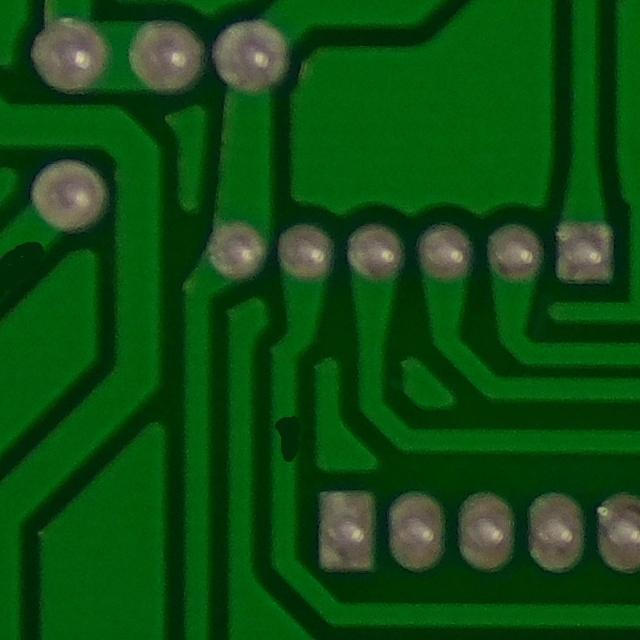mouse_bite: (0, 222, 58, 317), (259, 410, 316, 475)
